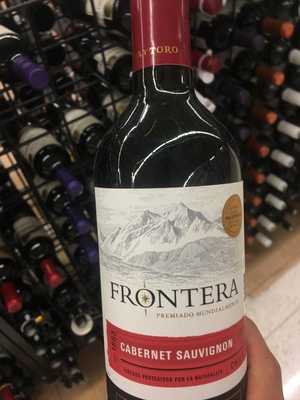frontera cabernet sauvignon: (90, 6, 263, 400)
